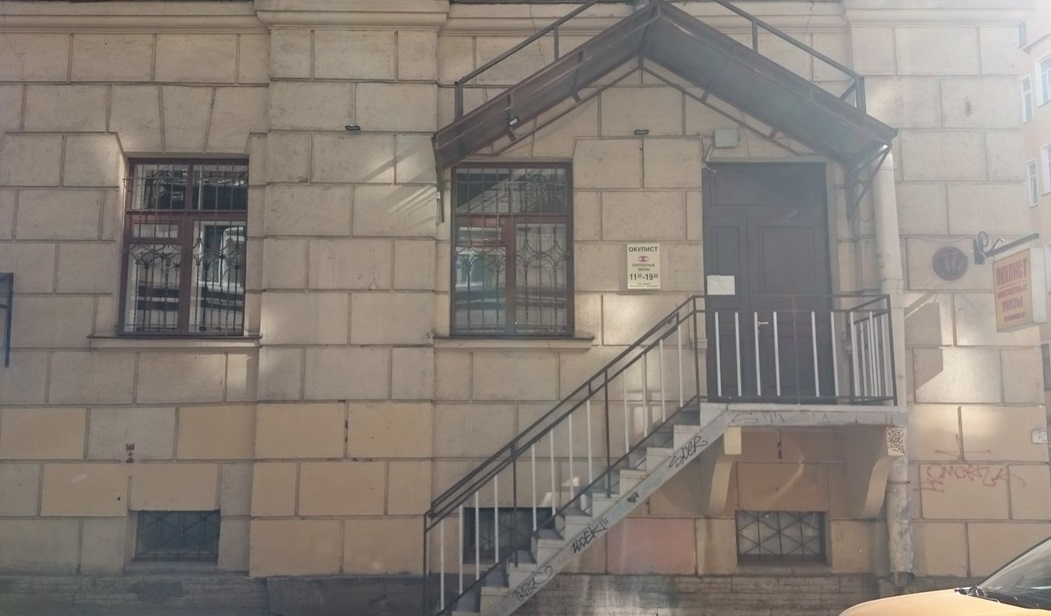cantilever: (974, 227, 1044, 336)
door: (704, 165, 835, 405)
window: (118, 156, 248, 336), (450, 166, 570, 336)
